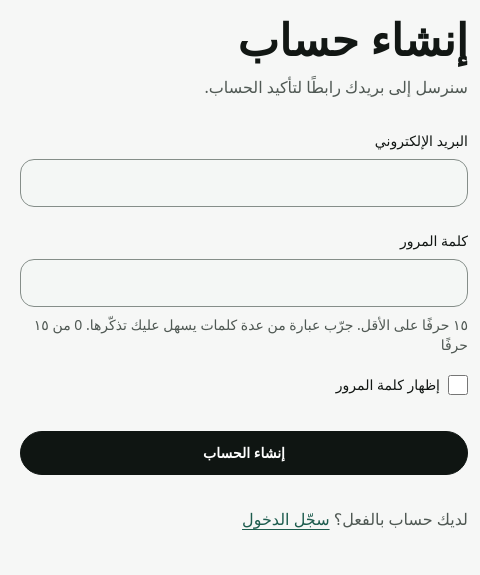
Test: RegisterPage › shows API field errors next to the field, in the current language
Type "reader@example.com" into the field labelled "البريد الإلكتروني". click: (244, 183)
box: [20, 159, 468, 207]
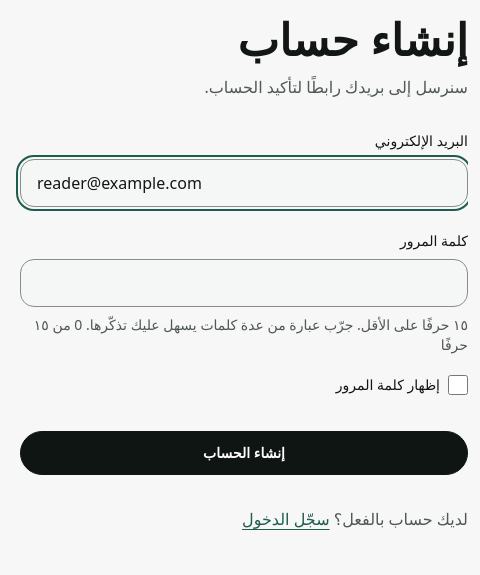
Type "correct horse battery staple 42" into the password field labelled "كلمة المرور". click: (244, 283)
box: [20, 259, 468, 307]
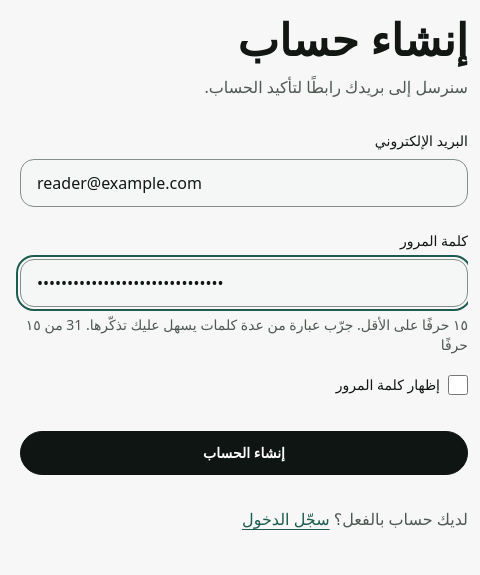
Click the button "إنشاء الحساب". click: (244, 453)
box: [20, 431, 468, 475]
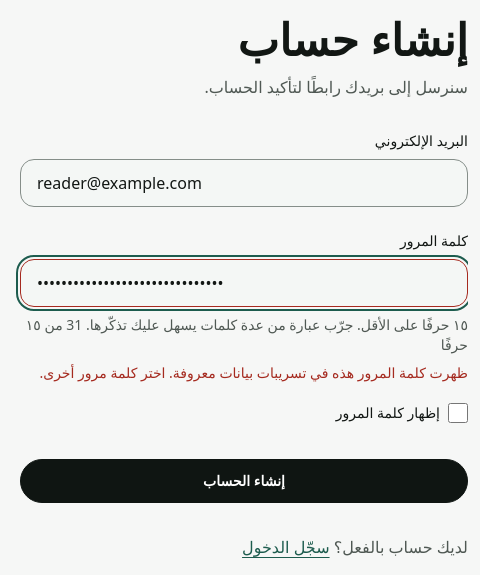
Result: the text "ظهرت كلمة المرور هذه في تسريبات" is shown at [39, 363, 468, 382]
